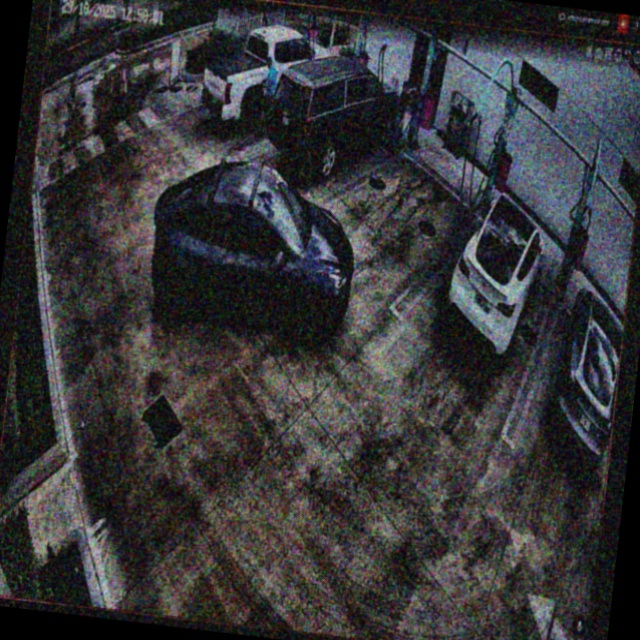Car: (142, 152, 363, 344), (443, 188, 551, 359), (267, 50, 404, 183)
